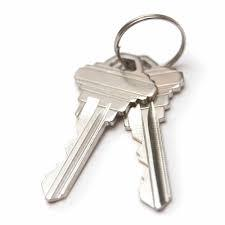key: (37, 50, 157, 204)
